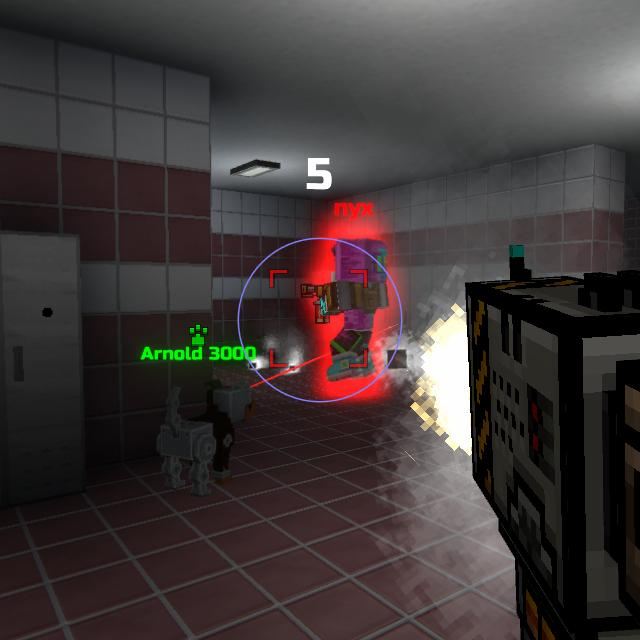Enemy: (320, 238, 389, 382)
